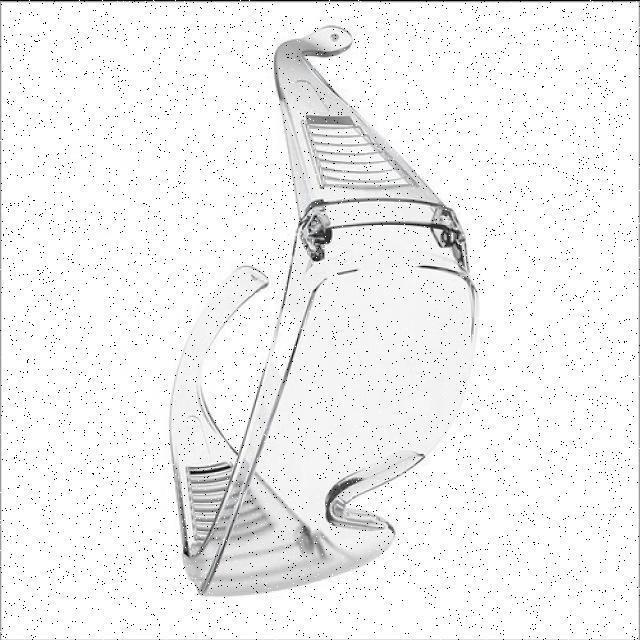Goggles: (167, 17, 485, 605)
